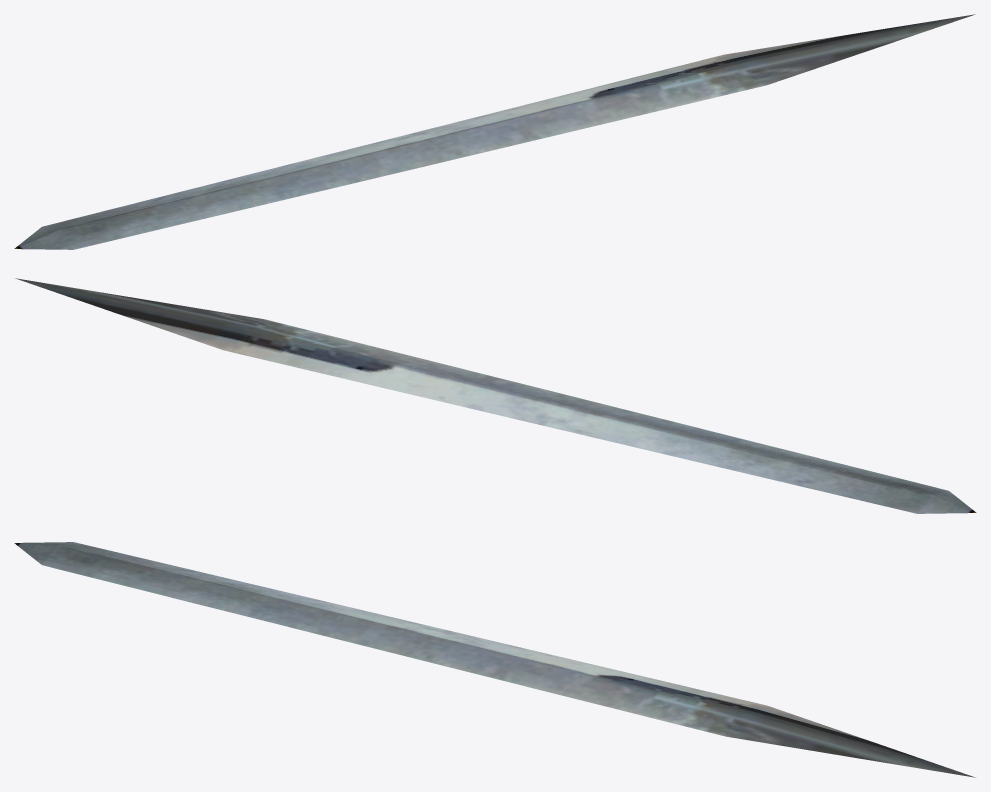
File: ITMI2.glb
3 renders of one model, top to bottom at view 1: azimuth 30°, elevation 25°; view 2: azimuth 150°, elevation 25°; view 3: azimuth 330°, elevation 25°, orthographic.
Visible parts, largest first — view 1: zengin; view 2: zengin; view 3: zengin.
Boxes of the visible parts, <box> form: zengin: <box>14,14,975,249</box>; zengin: <box>15,278,976,513</box>; zengin: <box>14,542,975,777</box>.
Size of the model in its own units: 1.05 by 0.016 by 0.08.
Materials: 1 (1 with a texture image).
